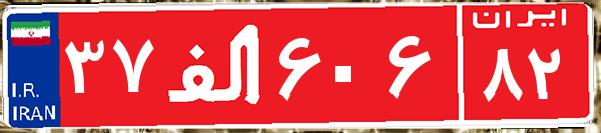0: (330, 28, 385, 110)
2: (525, 38, 570, 115)
3: (57, 26, 110, 107)
6: (385, 28, 445, 110), (273, 28, 330, 110)
7: (110, 28, 158, 105)
8: (475, 38, 525, 113)
الف: (158, 15, 273, 115)
